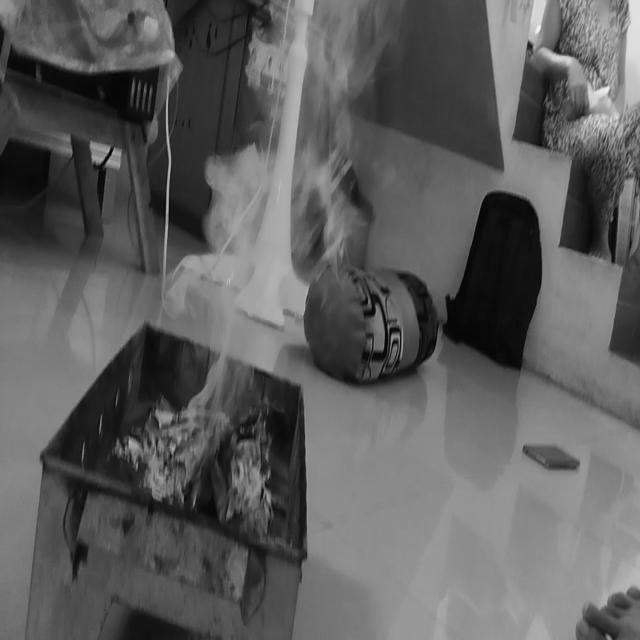fire: (206, 18, 379, 359)
